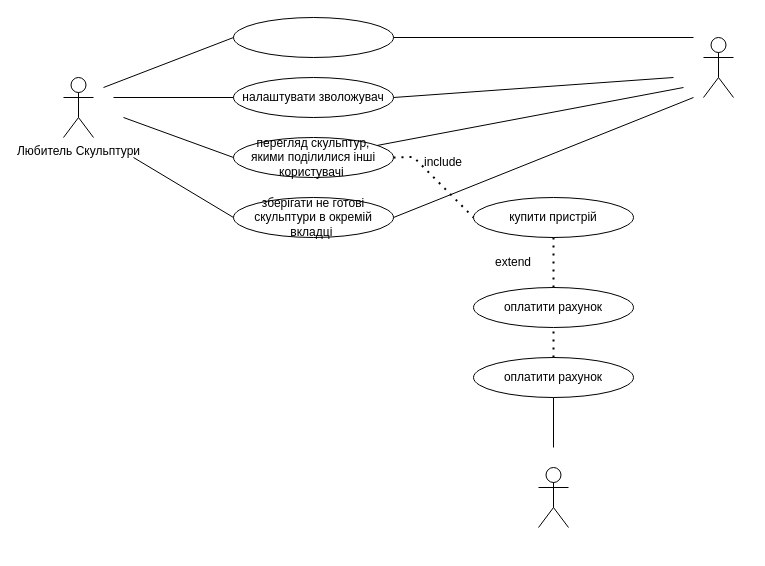
Image size: 765x566. Some labels were removed from this diagram. The centre of each missing label's shape, as x and y in pixels:
"WFP" belongs at [553,497].
"отримати список скульптур" belongs at [313,37].
"розробник" belongs at [718,67].
